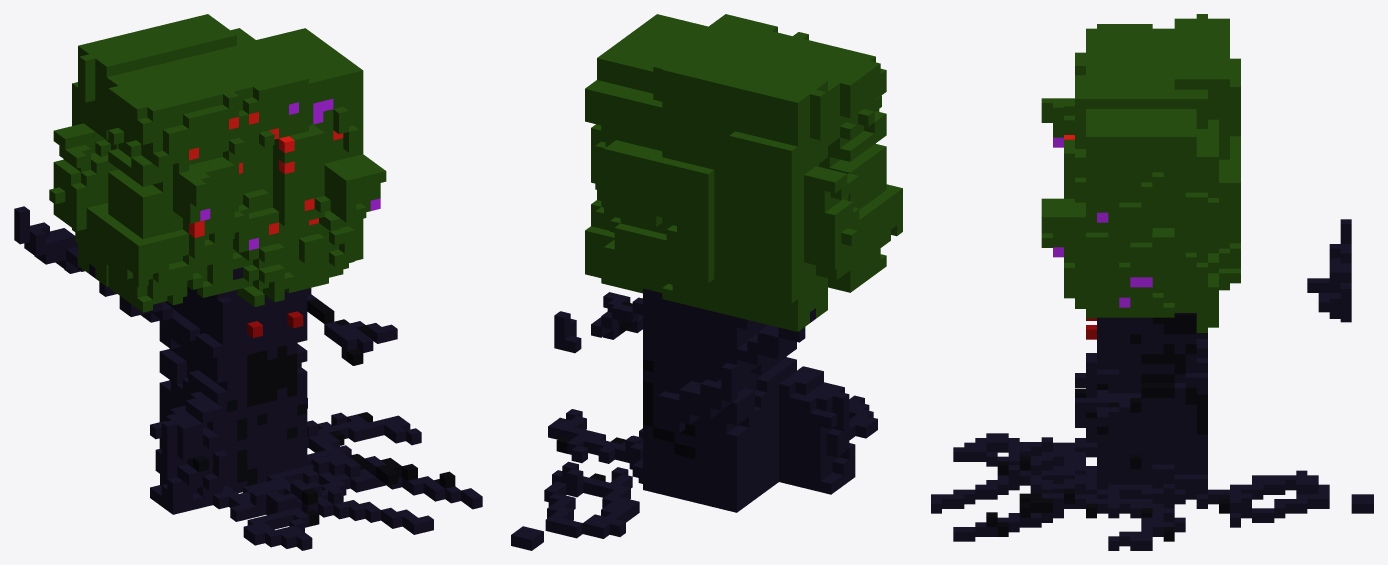
Rendered from Manzano_Mateo_Andres_Guzmán_Reyes_fase_4.obj.
3 views of the same model, side by side, from view 1: azimuth 30°, elevation 25°; view 2: azimuth 150°, elevation 25°; view 3: azimuth 270°, elevation 25° (orthographic). The views are drawn at different scales.
Parts seen in each view (by area): view 1: Manzano_Mateo_Andres_Guzmán_Reyes_fase_4; view 2: Manzano_Mateo_Andres_Guzmán_Reyes_fase_4; view 3: Manzano_Mateo_Andres_Guzmán_Reyes_fase_4.
Part boxes in pixels (box(x1,y1,x2,y2)): Manzano_Mateo_Andres_Guzmán_Reyes_fase_4: box(14, 14, 482, 550); Manzano_Mateo_Andres_Guzmán_Reyes_fase_4: box(511, 14, 902, 550); Manzano_Mateo_Andres_Guzmán_Reyes_fase_4: box(931, 14, 1373, 550).
Bounding box in the file's own units: 32 × 40 × 40.
